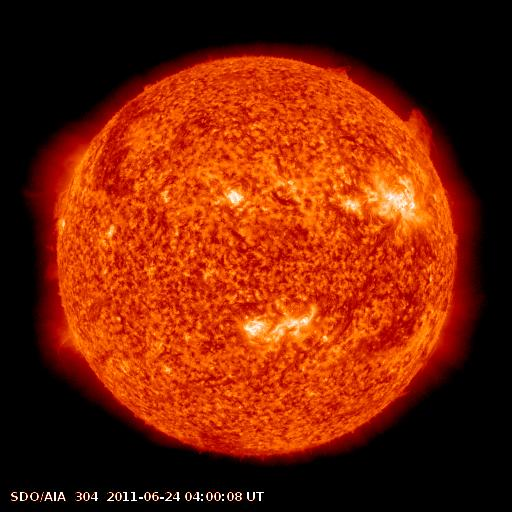prominence: (400, 100, 443, 165), (320, 57, 359, 87), (44, 184, 77, 218)
